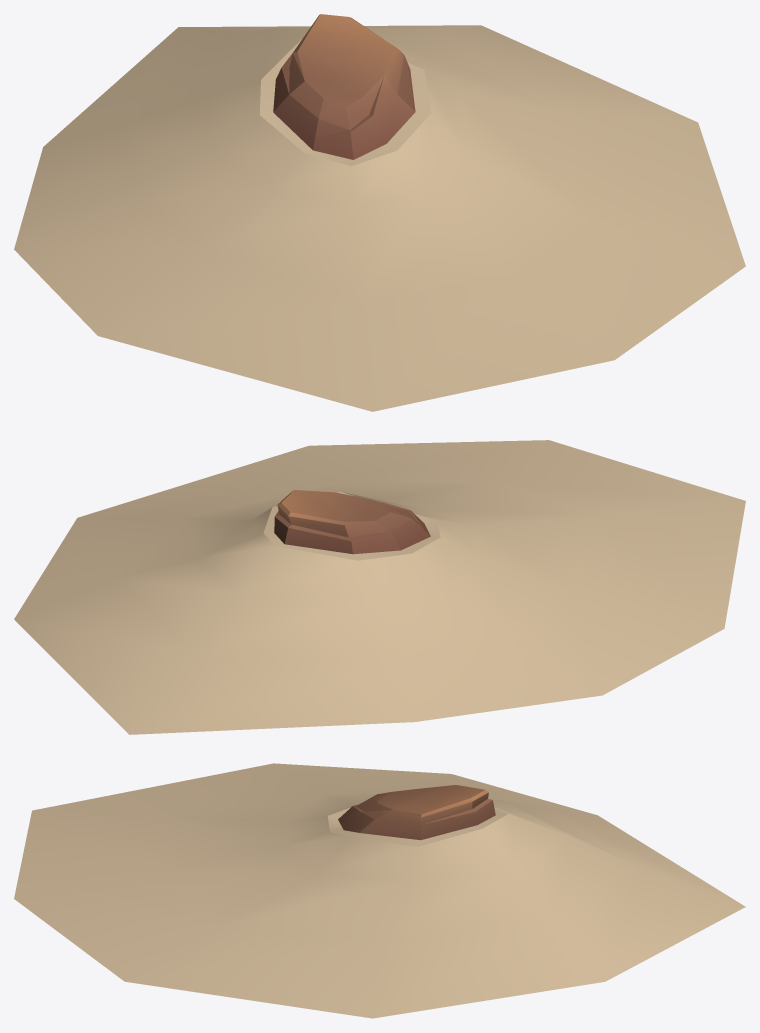
Rendered from roche_sable03.FBX.
3 renders of one model, top to bottom at view 1: azimuth 30°, elevation 25°; view 2: azimuth 150°, elevation 25°; view 3: azimuth 270°, elevation 25°, orthographic. The views are drawn at different scales.
Parts seen in each view (by area): view 1: roche_sable03; view 2: roche_sable03; view 3: roche_sable03.
Part boxes in pixels (bbox=[...]): roche_sable03: bbox=[14, 14, 745, 411]; roche_sable03: bbox=[14, 440, 745, 734]; roche_sable03: bbox=[14, 763, 745, 1018].
Size of the model in its own units: 12.97 by 2.63 by 15.37.
